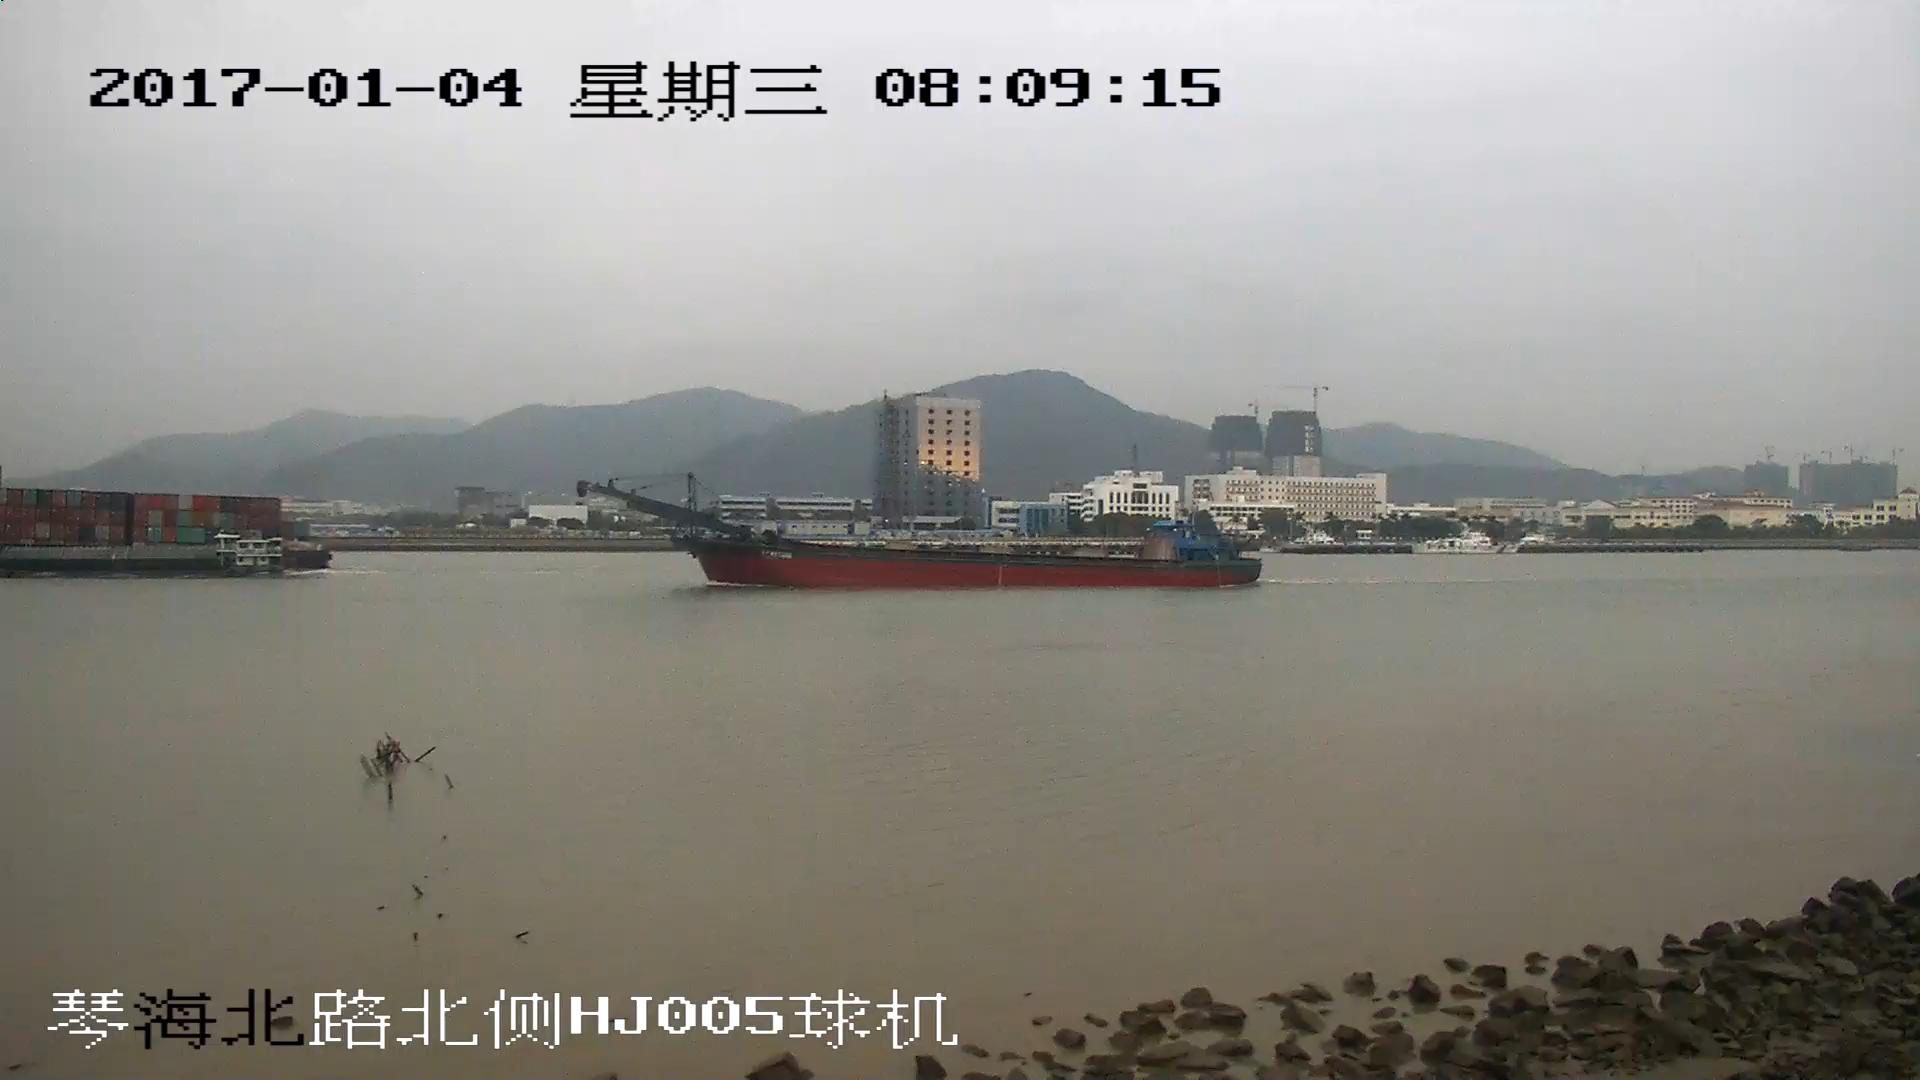bulk cargo carrier: (582, 482, 1265, 589)
container ship: (1, 487, 331, 573)
